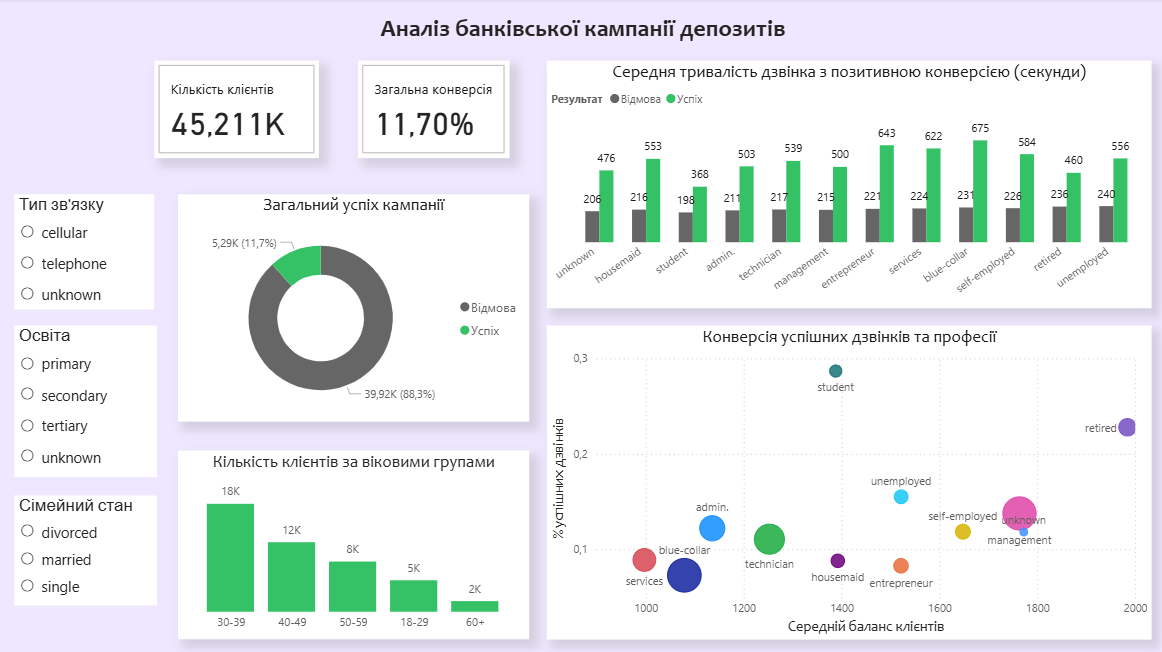

The page's visual inventory and layout, read from the dashboard file:
{"tool":"powerbi","page":{"name":"Page 1","canvas":[1280,720],"ordinal":0},"visuals":[{"type":"donutChart","title":"Загальний успіх кампанії","fields":{"Y":["CountNonNull(EDA.y)"],"Category":["EDA.Результат"]},"box":[197.6,215.4,385.6,249.7],"z":0},{"type":"clusteredColumnChart","title":"Кількість клієнтів за віковими групами","fields":{"Category":["EDA.age_group"],"Y":["CountNonNull(EDA.age_group)"]},"box":[197.6,496.7,385.6,207.2],"z":2000},{"type":"scatterChart","title":"Конверсія успішних дзвінків та професії","fields":{"Category":["EDA.job"],"X":["Avg(EDA.balance)"],"Y":["Avg(EDA.y_binary)"],"Size":["CountNonNull(EDA.balance)1"],"Series":["EDA.job"]},"box":[602.4,359.5,664.2,344.4],"z":4000},{"type":"clusteredColumnChart","title":"Середня тривалість дзвінка з позитивною конверсією (секунди)","fields":{"Y":["Avg(EDA.duration)"],"Category":["EDA.job"],"Series":["EDA.Результат"]},"box":[602.4,68.6,664.2,271.7],"z":6000},{"type":"listSlicer","fields":{"Values":["EDA.marital"]},"box":[17.8,546.1,156.4,120.8],"z":6001},{"type":"listSlicer","fields":{"Values":["EDA.education"]},"box":[17.8,359.5,156.4,166],"z":6002},{"type":"listSlicer","fields":{"Values":["EDA.contact"]},"box":[17.8,215.4,153.7,126.2],"z":6003},{"type":"cardVisual","fields":{"Data":["Avg(EDA.y_binary)"]},"box":[395.2,68.6,166,107],"z":6004},{"type":"cardVisual","fields":{"Data":["CountNonNull(EDA.age)"]},"box":[171.5,68.6,181.1,107],"z":6005},{"type":"textbox","box":[17.8,11,1248.7,46.7],"z":6006}]}

Visuals, with their boxes in screenshot pixels (x1, y1, x2, y2), scaled from the page's 1280x720 canvas onto the 1162x652 screenshot:
"Загальний успіх кампанії" donutChart: box=[179, 195, 529, 421]
"Кількість клієнтів за віковими групами" clusteredColumnChart: box=[179, 450, 529, 637]
"Конверсія успішних дзвінків та професії" scatterChart: box=[547, 326, 1150, 637]
"Середня тривалість дзвінка з позитивною конверсією (секунди)" clusteredColumnChart: box=[547, 62, 1150, 308]
listSlicer - EDA.marital: box=[16, 495, 158, 604]
listSlicer - EDA.education: box=[16, 326, 158, 476]
listSlicer - EDA.contact: box=[16, 195, 156, 309]
cardVisual - Avg(EDA.y_binary): box=[359, 62, 509, 159]
cardVisual - CountNonNull(EDA.age): box=[156, 62, 320, 159]
textbox: box=[16, 10, 1150, 52]
